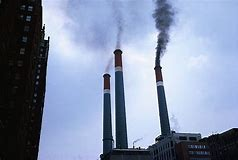smoke: (151, 1, 176, 59), (110, 1, 126, 49), (102, 55, 114, 73)
